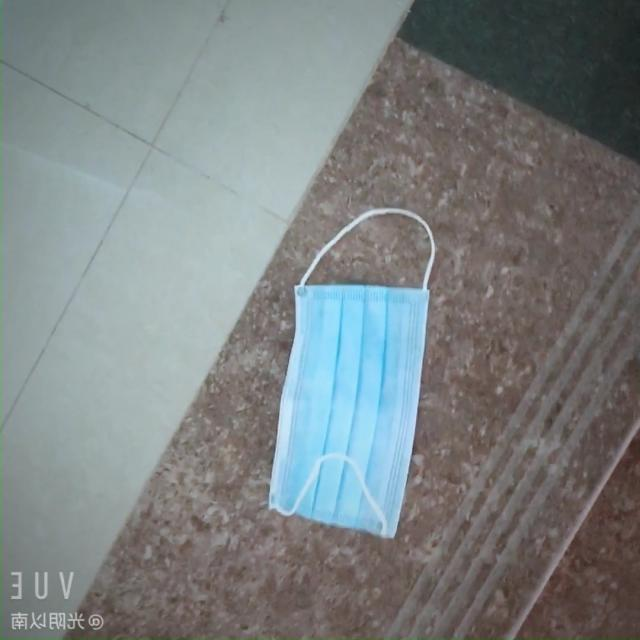face mask: (280, 278, 440, 534)
